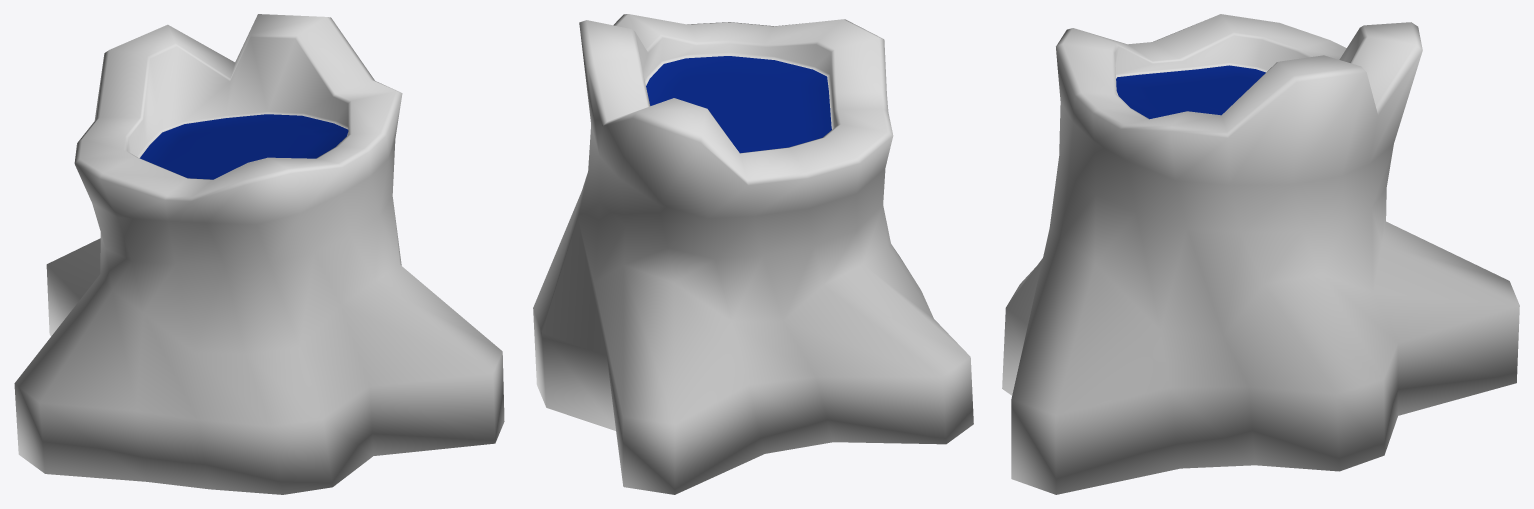
Rendered from Deadwood_Tree_04.fbx.
3 renders of one model, left to right at view 1: azimuth 30°, elevation 25°; view 2: azimuth 150°, elevation 25°; view 3: azimuth 270°, elevation 25°, orthographic. The views are drawn at different scales.
Visible parts, largest first — view 1: Deadwood_Tree_04; view 2: Deadwood_Tree_04; view 3: Deadwood_Tree_04.
Part boxes in pixels (left/top/right/bottom): Deadwood_Tree_04: left=14, top=14, right=504, bottom=494; Deadwood_Tree_04: left=533, top=14, right=973, bottom=494; Deadwood_Tree_04: left=1002, top=14, right=1519, bottom=494.
Bounding box in the file's own units: 60.52 × 49.98 × 61.29.
